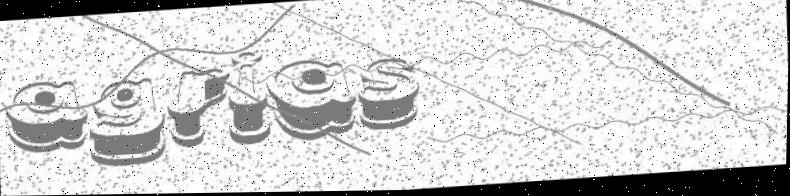a: (265, 54, 361, 143), (3, 73, 91, 154)
g: (87, 74, 169, 168)
i: (226, 48, 276, 148)
r: (165, 63, 233, 152)
s: (354, 54, 424, 133)
